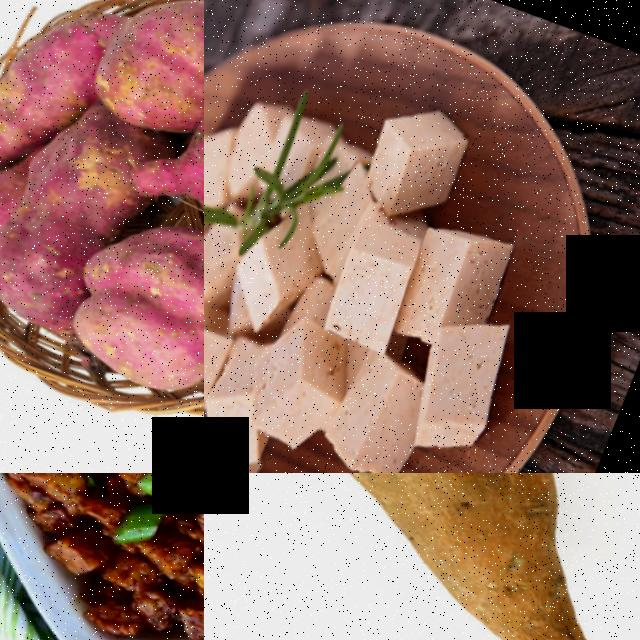sweet potato: (204, 473, 640, 640), (45, 193, 204, 444), (0, 98, 143, 338), (67, 0, 204, 154), (0, 9, 86, 184), (153, 80, 204, 288)
tofu: (393, 312, 522, 473), (227, 312, 358, 465), (353, 93, 478, 233), (314, 216, 430, 360), (394, 211, 518, 344), (314, 352, 433, 473), (215, 241, 313, 343), (204, 364, 280, 473), (204, 311, 235, 408)
